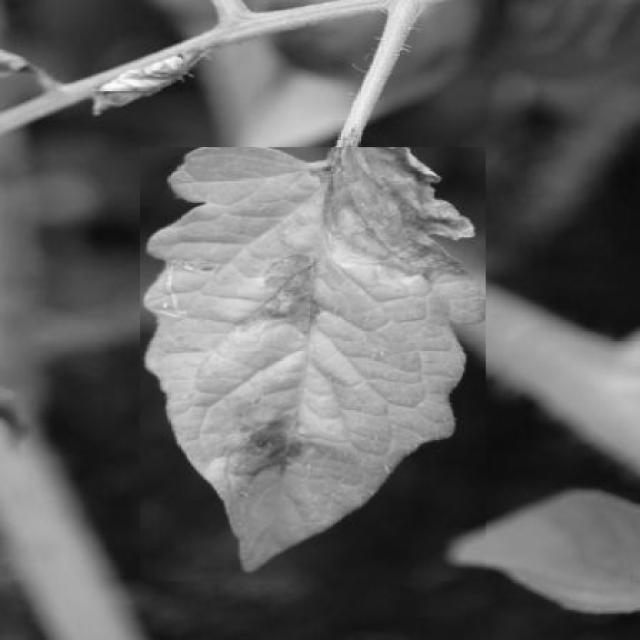Late Blight: (141, 148, 486, 582)
